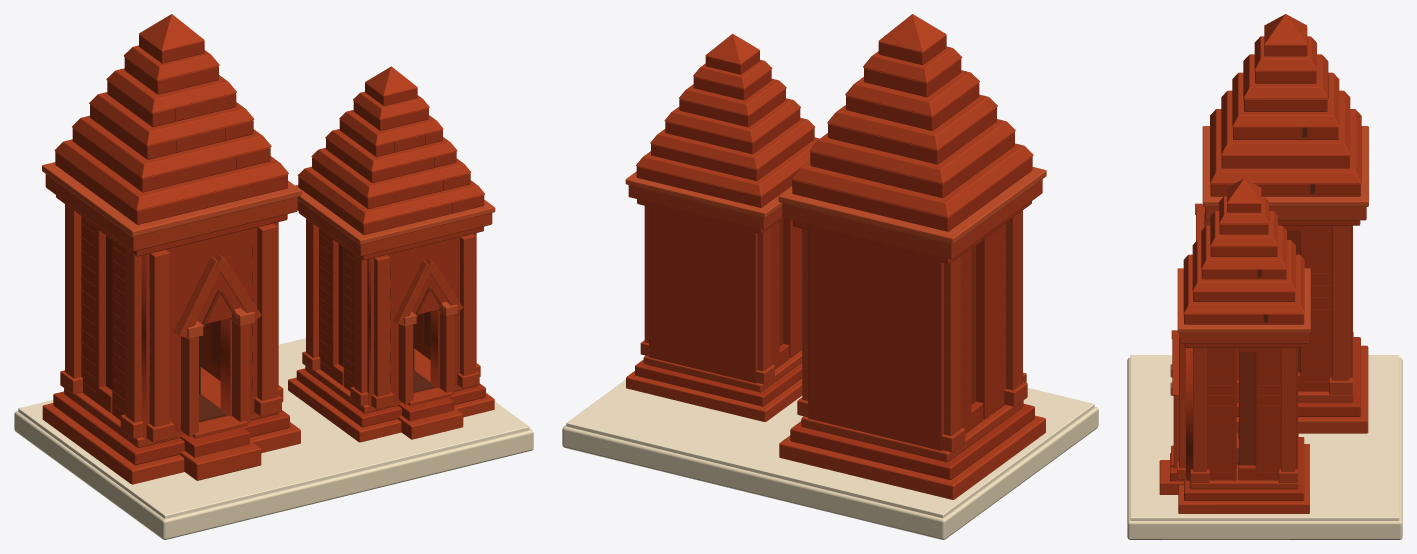
File: quy-nhon.glb
3 views of the same model, side by side, from view 1: azimuth 30°, elevation 25°; view 2: azimuth 150°, elevation 25°; view 3: azimuth 270°, elevation 25° (orthographic). The views are drawn at different scales.
Visible parts, largest first — view 1: THAP_DOI_V2; view 2: THAP_DOI_V2; view 3: THAP_DOI_V2.
Part boxes in pixels (bbox=[...]): THAP_DOI_V2: bbox=[14, 14, 533, 539]; THAP_DOI_V2: bbox=[562, 14, 1098, 539]; THAP_DOI_V2: bbox=[1127, 14, 1402, 539].
Size of the model in its own units: 1.42 by 1.61 by 0.9969.
